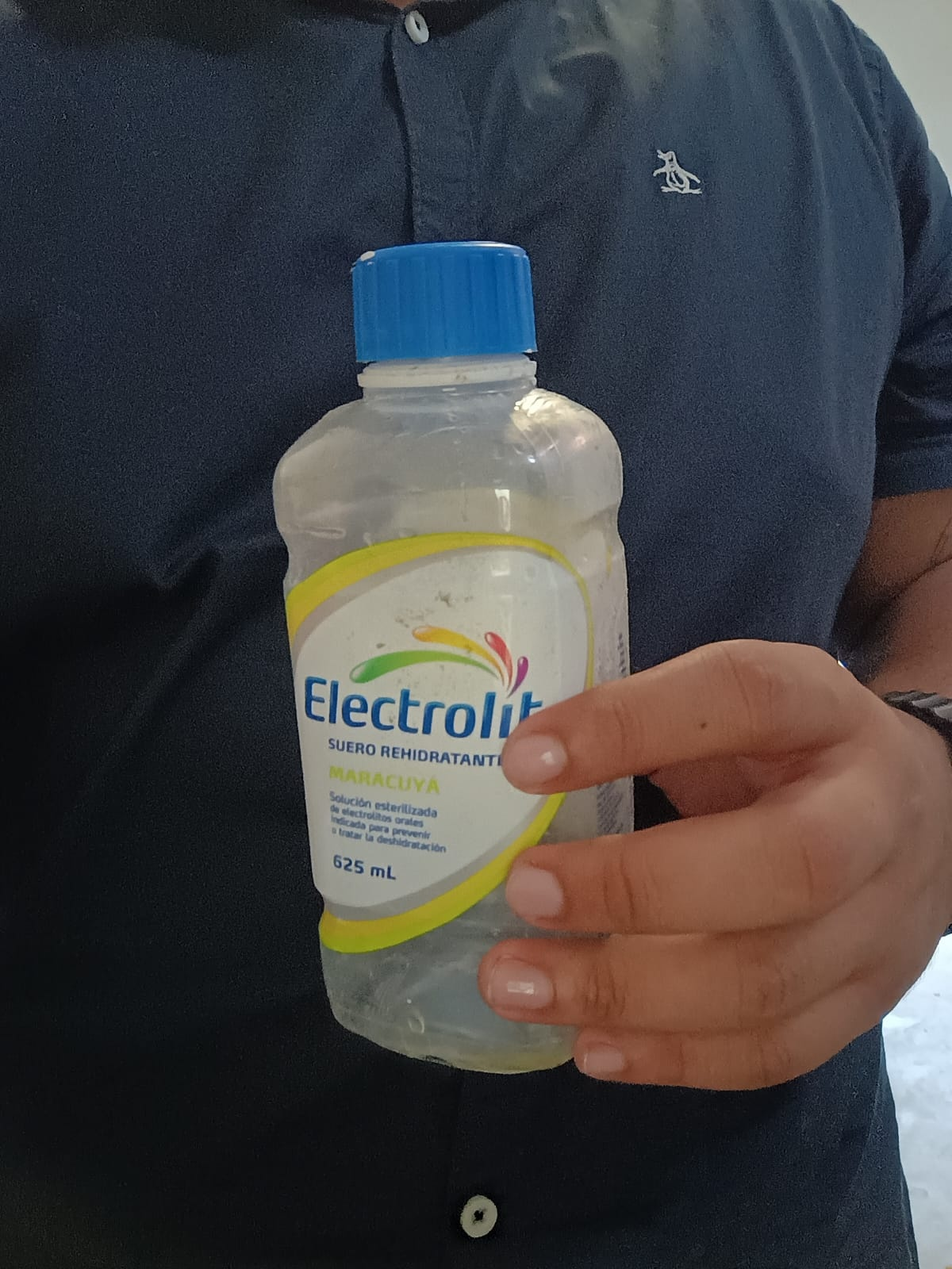Plastico: (273, 241, 628, 1074)
